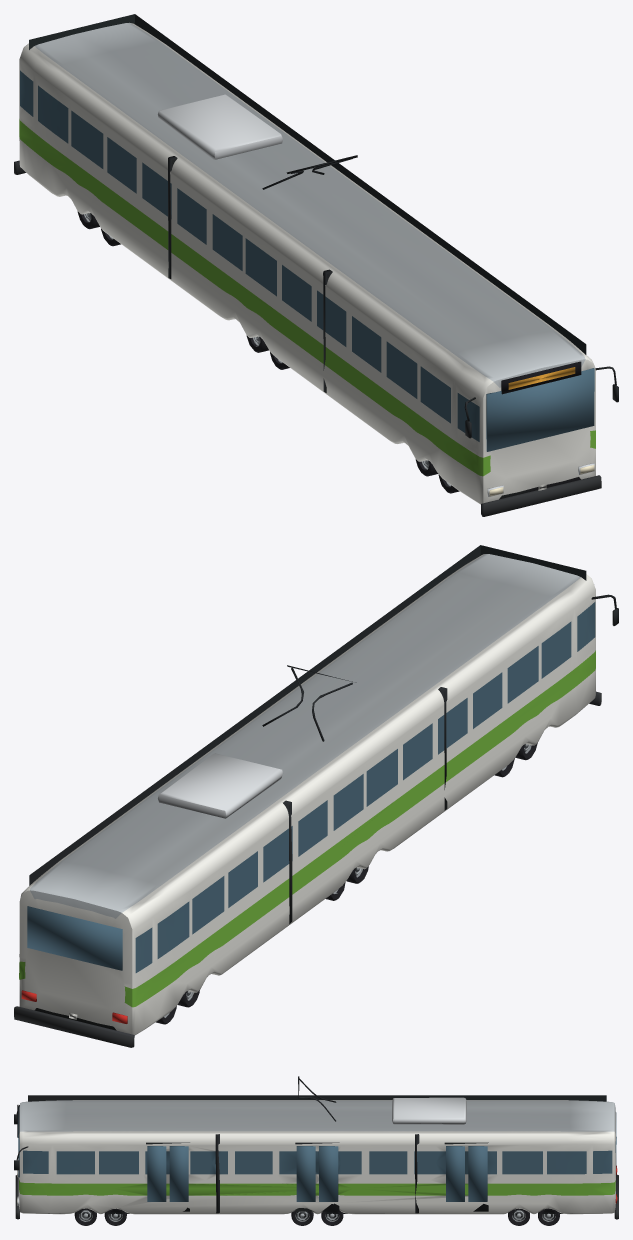
Rendered from veh-tramModern.glb.
The picture shows the model from 3 angles, top to bottom: view 1: azimuth 30°, elevation 25°; view 2: azimuth 150°, elevation 25°; view 3: azimuth 270°, elevation 25°; orthographic projection. The views are drawn at different scales.
Visible parts, largest first — view 1: body; view 2: body; view 3: body, wheel0, wheel8, wheel4, wheel10, wheel2, wheel6.
Boxes of the visible parts, bbox=[...] form: body: bbox=[14, 14, 618, 516]; body: bbox=[14, 545, 618, 1047]; body: bbox=[14, 1076, 618, 1219]; wheel0: bbox=[74, 1208, 96, 1225]; wheel8: bbox=[508, 1208, 529, 1225]; wheel4: bbox=[291, 1211, 313, 1225]; wheel10: bbox=[538, 1208, 559, 1225]; wheel2: bbox=[104, 1208, 126, 1225]; wheel6: bbox=[321, 1211, 343, 1225].
Size of the model in its own units: 2.98 by 3.73 by 16.2.
